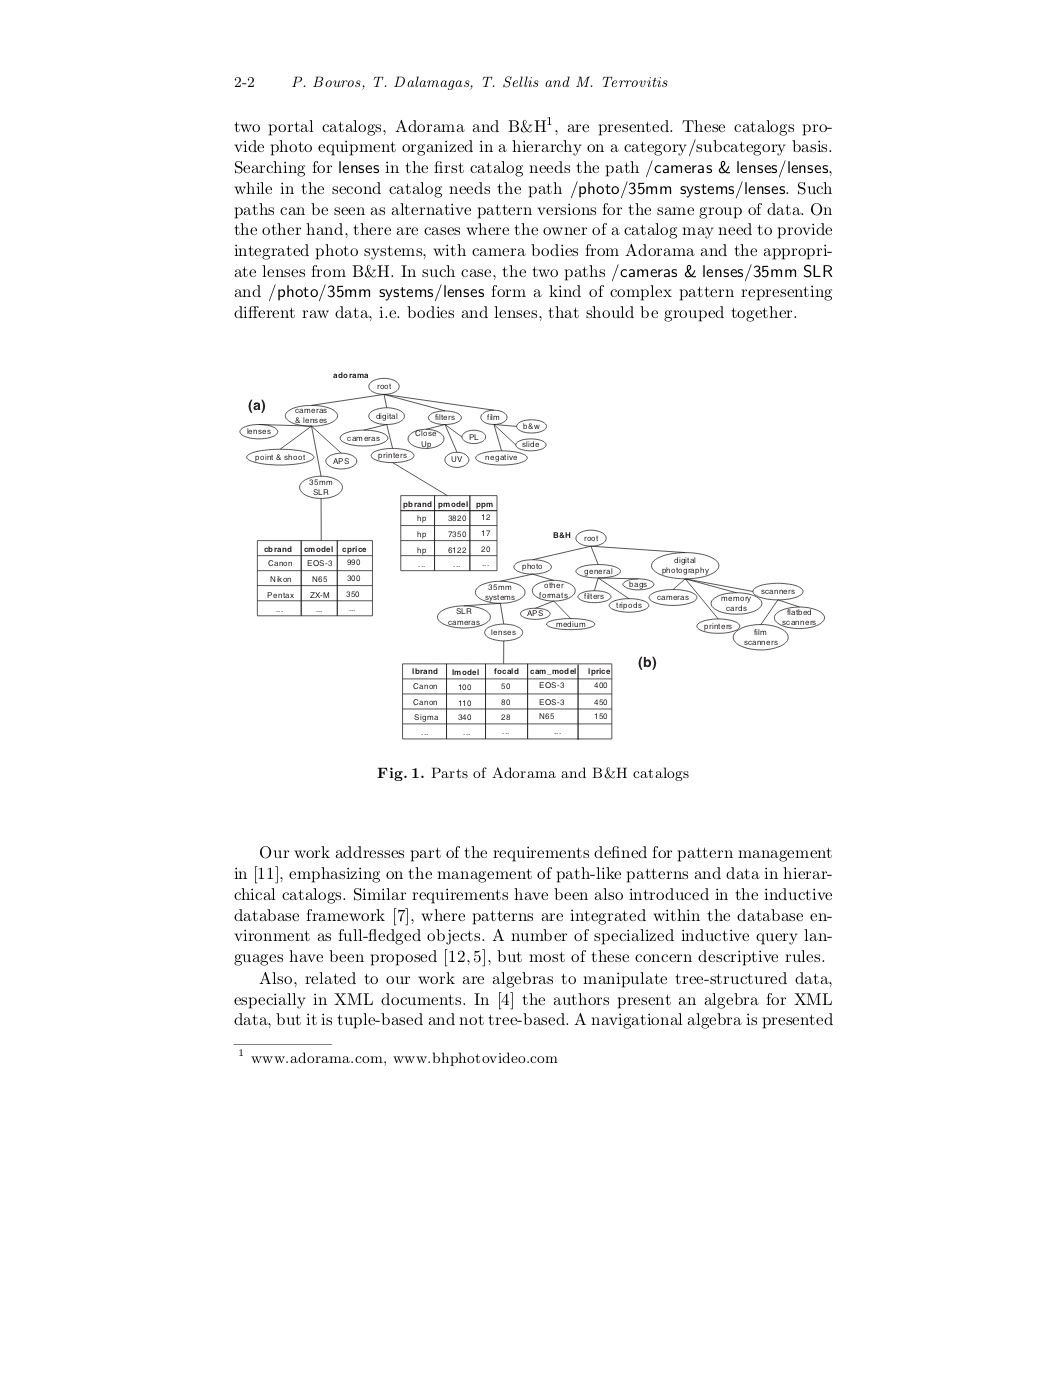figure: (239, 371, 824, 740)
